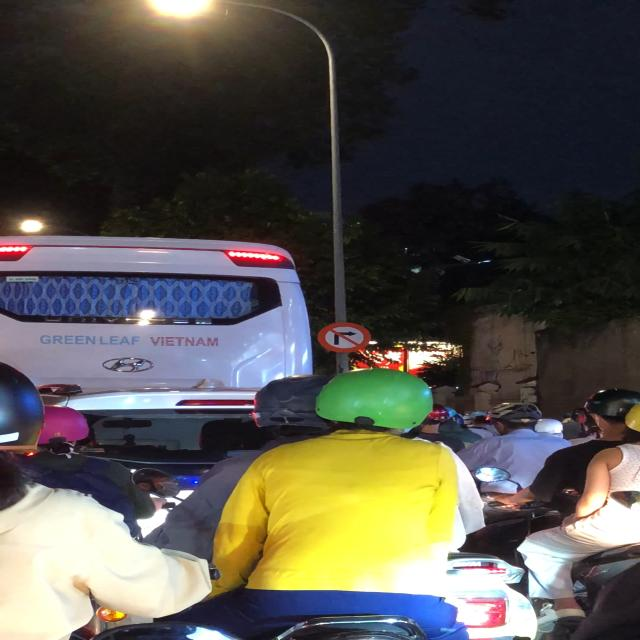Bien bao cam re phai: (314, 320, 383, 359)
